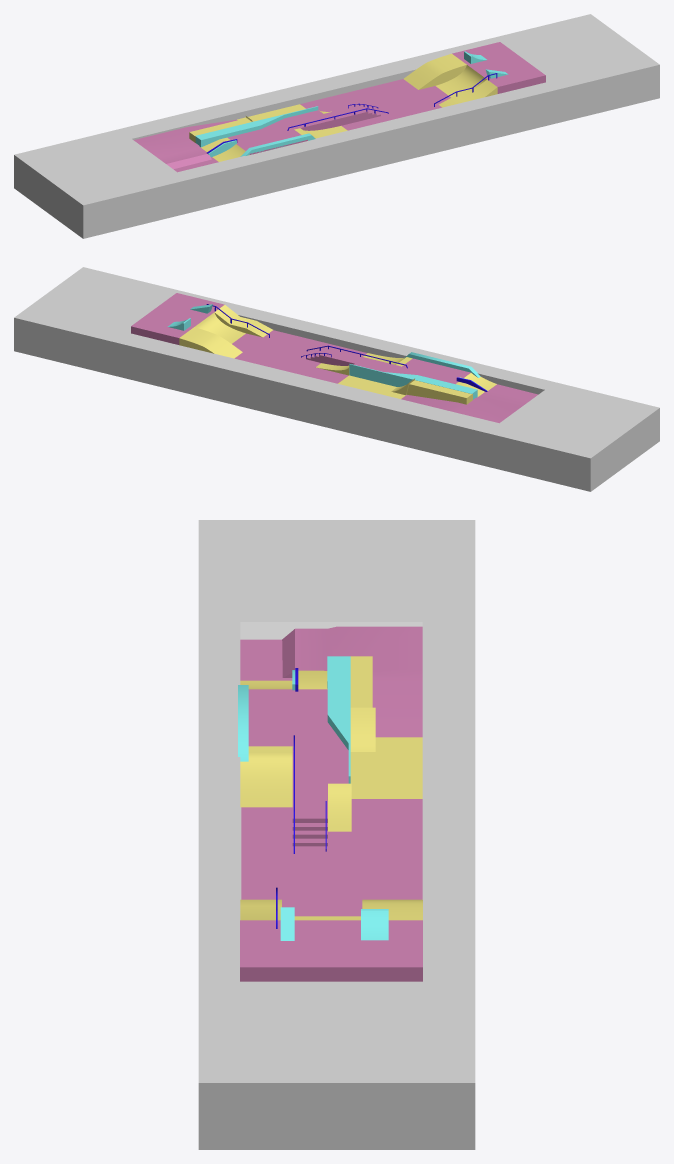
File: SkateMid.fbx
3 views of the same model, one above another, from view 1: azimuth 30°, elevation 25°; view 2: azimuth 150°, elevation 25°; view 3: azimuth 270°, elevation 25° (orthographic). The views are drawn at different scales.
Parts seen in each view (by area): view 1: Plane, KalaPart, WhitePart, Verts, Rails; view 2: Plane, KalaPart, WhitePart, Verts, Rails; view 3: Plane, KalaPart, WhitePart, Verts.
Boxes of the visible parts, box(x1,y1,x2,y2) form: Plane: box(14, 14, 659, 238); KalaPart: box(133, 42, 545, 172); WhitePart: box(189, 53, 497, 161); Verts: box(195, 51, 508, 157); Rails: box(207, 73, 497, 153); Plane: box(14, 267, 659, 491); KalaPart: box(131, 293, 538, 423); WhitePart: box(179, 305, 496, 404); Verts: box(167, 304, 483, 399); Rails: box(206, 304, 487, 391); Plane: box(198, 520, 475, 1149); KalaPart: box(240, 626, 422, 981); WhitePart: box(240, 656, 422, 920); Verts: box(238, 656, 388, 940).
Bounding box in the file's own units: 90 × 7.16 × 18.72.
